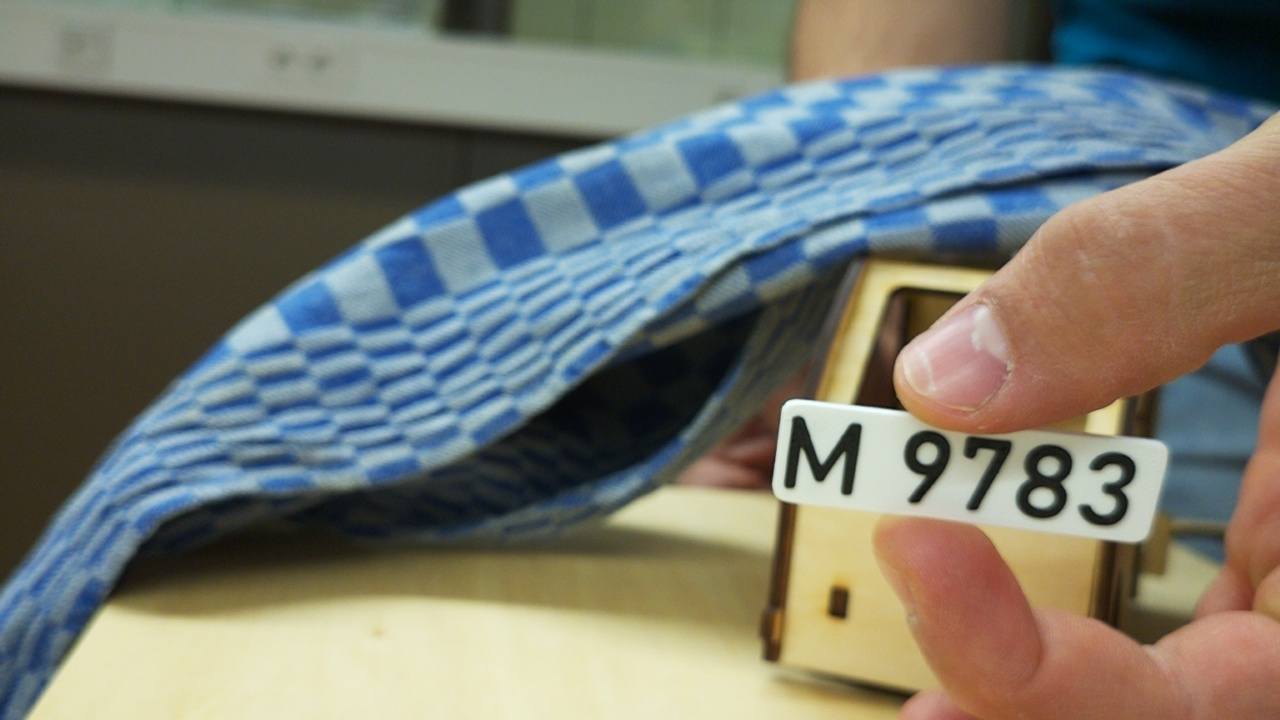license_plate: (768, 395, 1170, 547)
